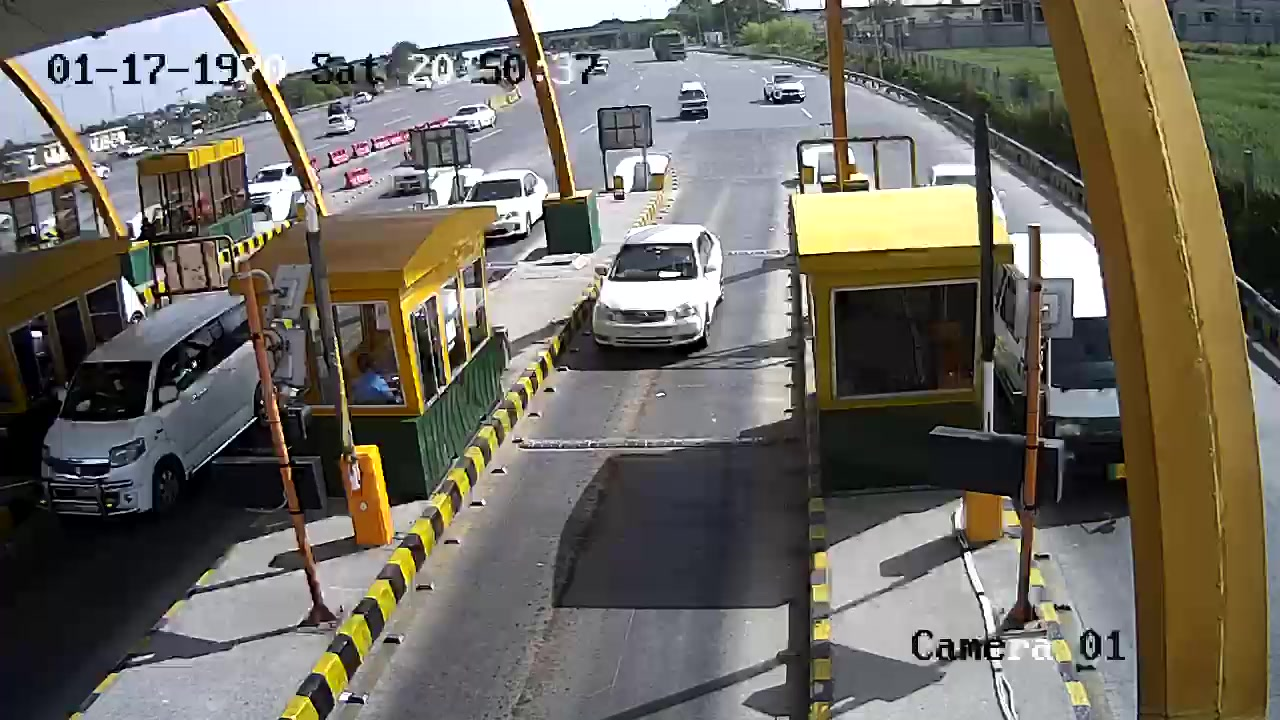F1: (582, 221, 728, 365)
